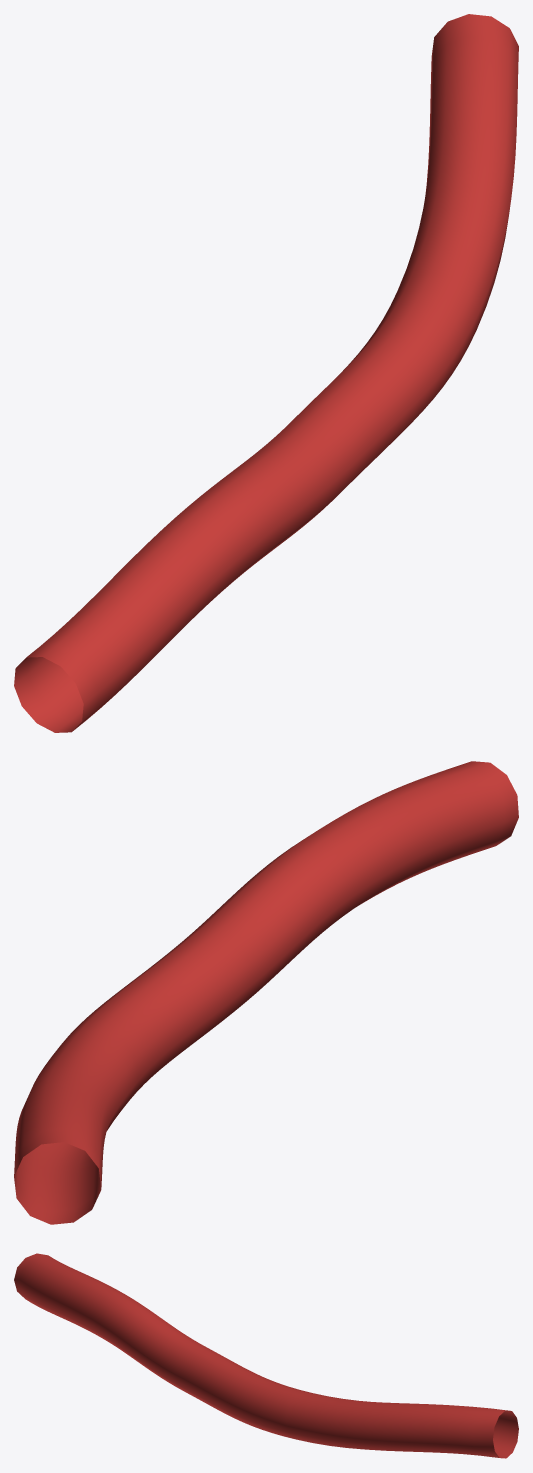
The picture shows the model from 3 angles, top to bottom: view 1: azimuth 30°, elevation 25°; view 2: azimuth 210°, elevation 25°; view 3: azimuth 270°, elevation 25°; orthographic projection. The views are drawn at different scales.
Parts seen in each view (by area): view 1: 左侧腋动脉; view 2: 左侧腋动脉; view 3: 左侧腋动脉.
Part boxes in pixels (x1,y1,x2,y2): 左侧腋动脉: (14, 14, 518, 732); 左侧腋动脉: (14, 761, 518, 1224); 左侧腋动脉: (14, 1253, 518, 1458).
Size of the model in its own units: 0.0859 by 0.0194 by 0.075.
